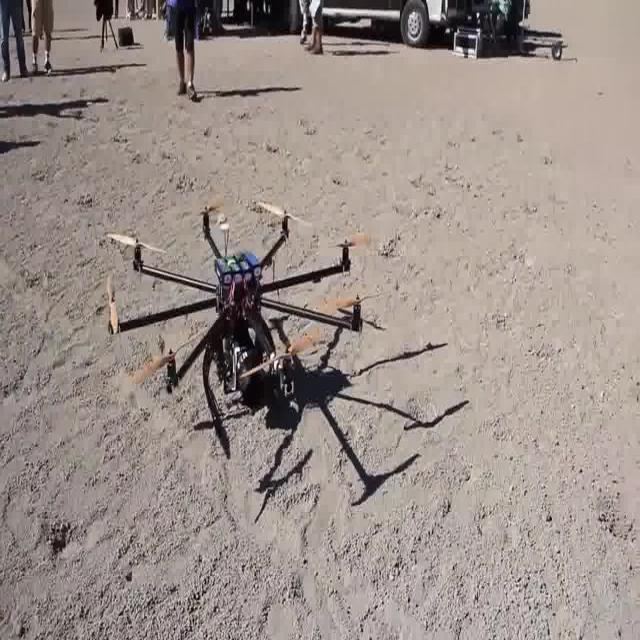drone: (87, 187, 387, 453)
